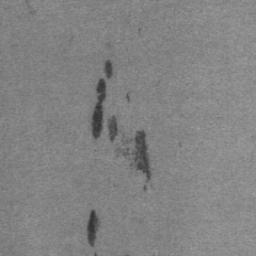Iron scale compression: (92, 61, 118, 142), (132, 129, 152, 182), (87, 209, 99, 247)
